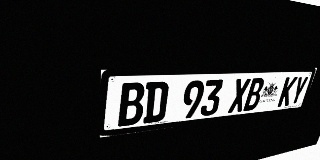3: (199, 79, 224, 117)
9: (180, 80, 206, 119)
B: (118, 82, 145, 127), (243, 78, 265, 111)
D: (143, 81, 169, 124)
K: (277, 77, 298, 107)
X: (228, 78, 251, 113)
Y: (288, 76, 309, 105)
